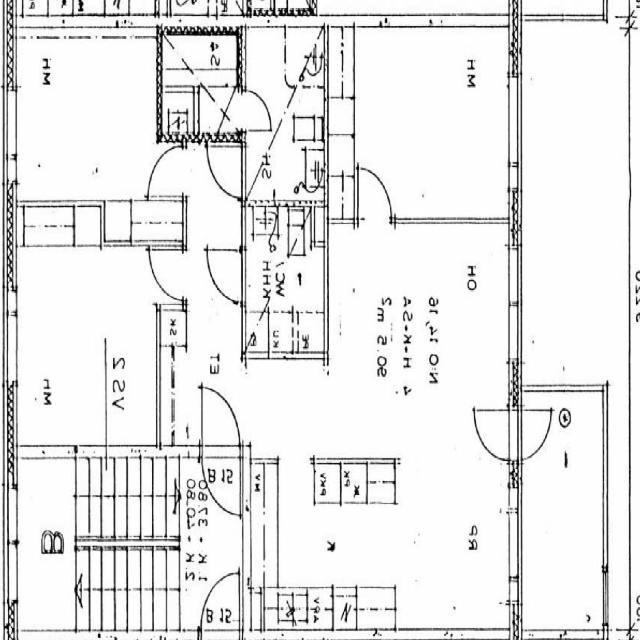door: (202, 445, 240, 516), (203, 388, 241, 458), (476, 409, 521, 459), (509, 409, 554, 459), (150, 249, 187, 299), (208, 250, 245, 300), (358, 168, 391, 224), (208, 147, 245, 196), (150, 147, 187, 195), (236, 91, 272, 130)
